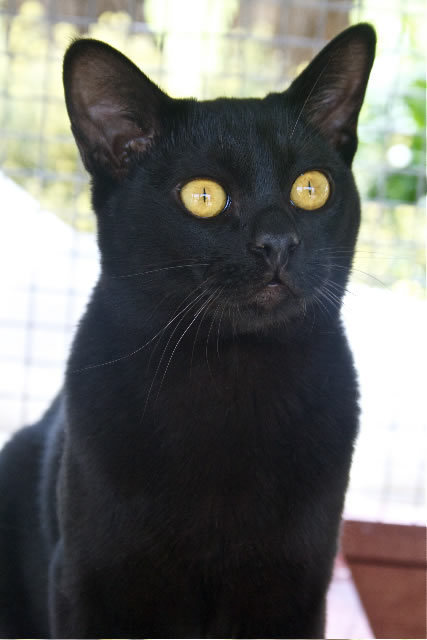Bombay: (6, 14, 392, 635)
